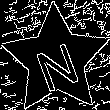N_N: (29, 29, 83, 91)
